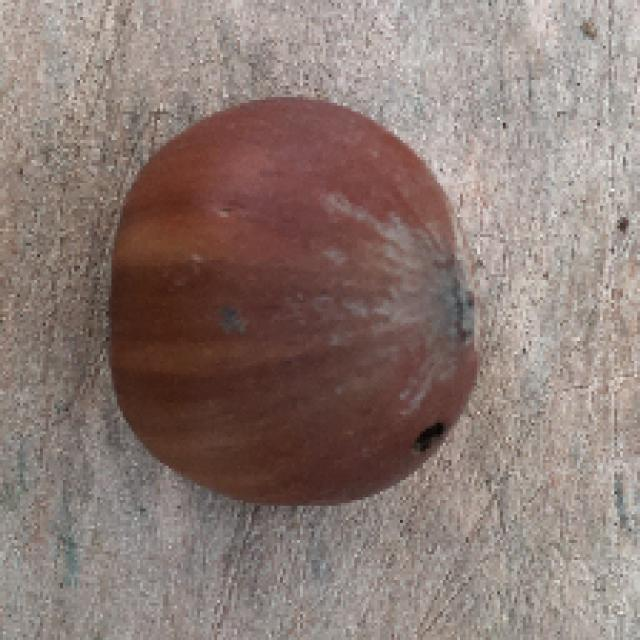damagedHazelnut: (92, 80, 484, 522)
